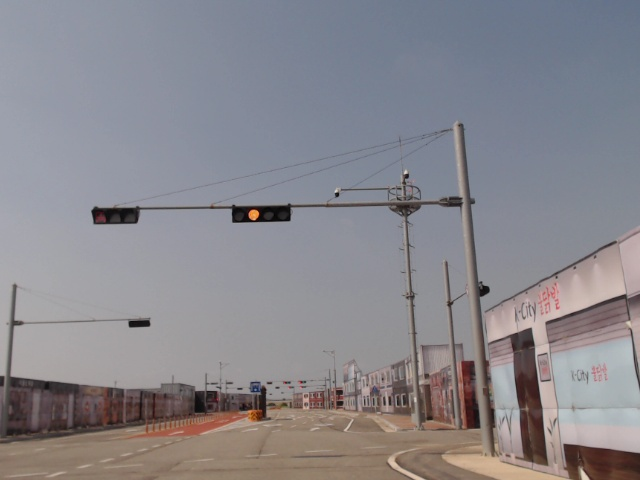orange_4: (231, 206, 292, 225)
